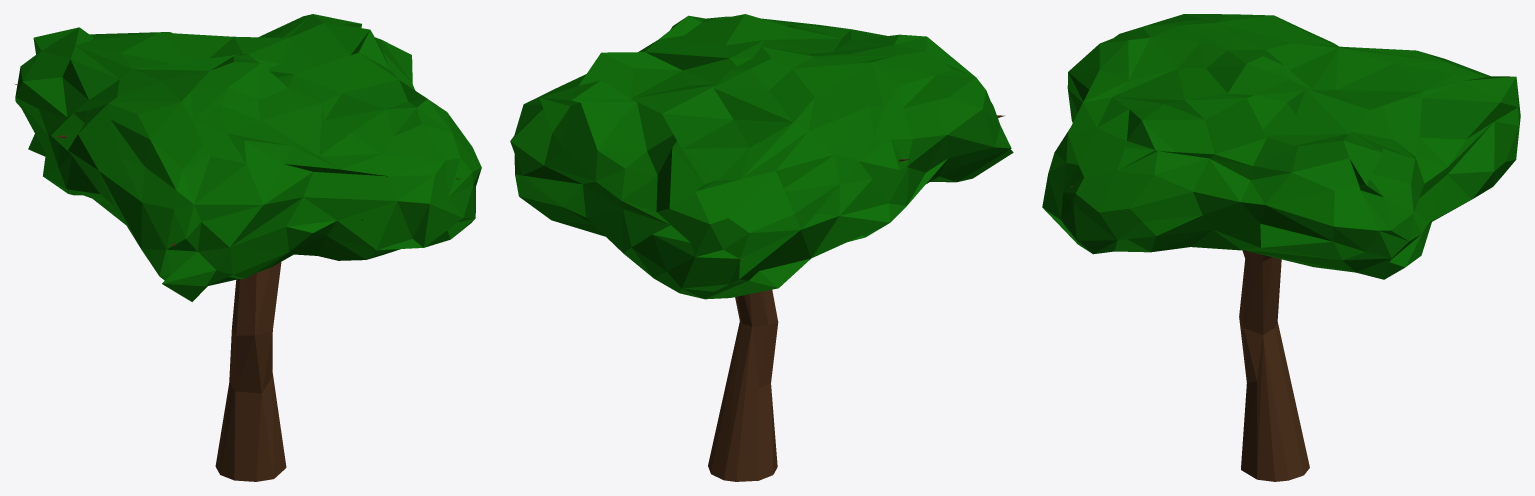
The model's file is Tree3.fbx.
3 views of the same model, side by side, from view 1: azimuth 30°, elevation 25°; view 2: azimuth 150°, elevation 25°; view 3: azimuth 270°, elevation 25° (orthographic). The views are drawn at different scales.
Visible parts, largest first — view 1: Icosphere, Tree; view 2: Icosphere, Tree; view 3: Icosphere, Tree.
Boxes of the visible parts, x1=… form: Icosphere: x1=15, y1=14, x2=481, y2=301; Tree: x1=15, y1=84, x2=459, y2=481; Icosphere: x1=510, y1=14, x2=1013, y2=299; Tree: x1=621, y1=115, x2=1004, y2=481; Icosphere: x1=1042, y1=14, x2=1520, y2=279; Tree: x1=1069, y1=186, x2=1472, y2=481.
Size of the model in its own units: 1403 by 1486 by 1607.
Materials: 1 (1 with a texture image).
